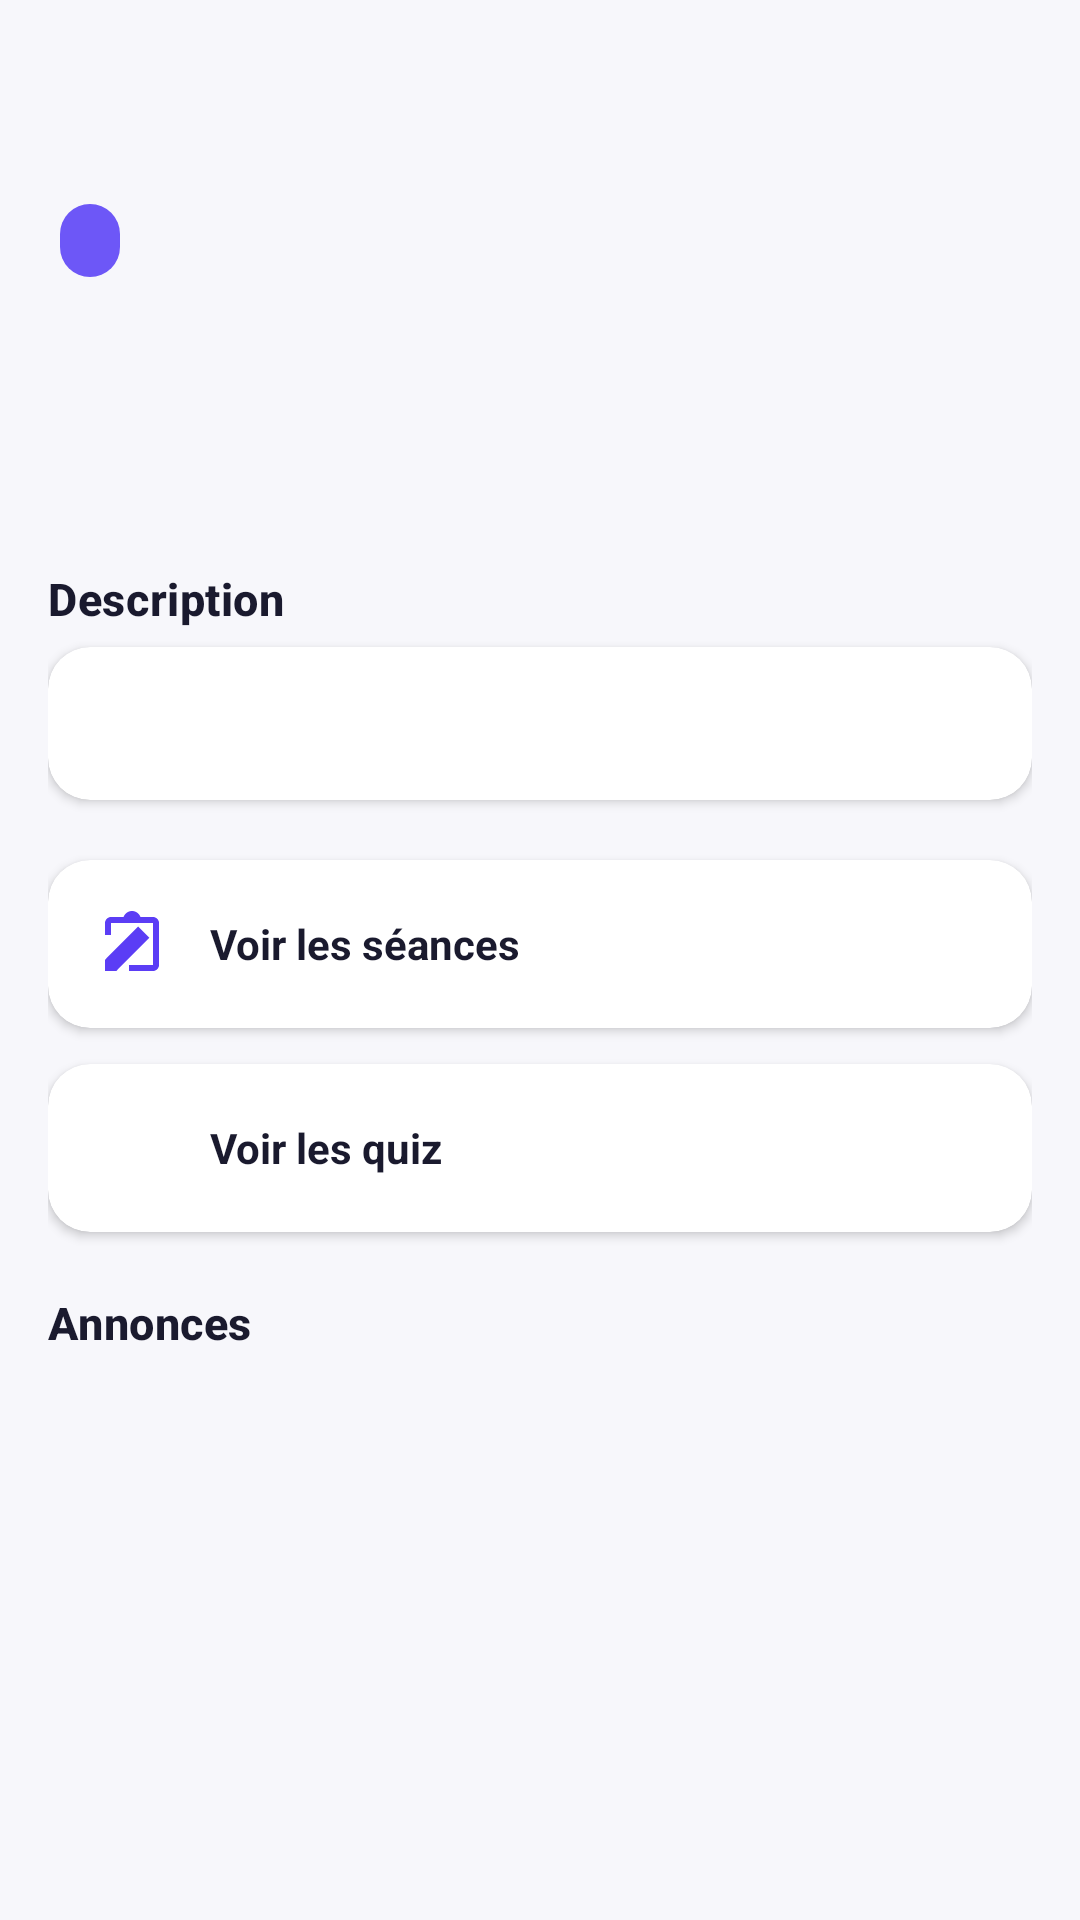

Where to tap for icons on this 1080 x 1920 app screen, as (x,y):
notes: (132,941)
